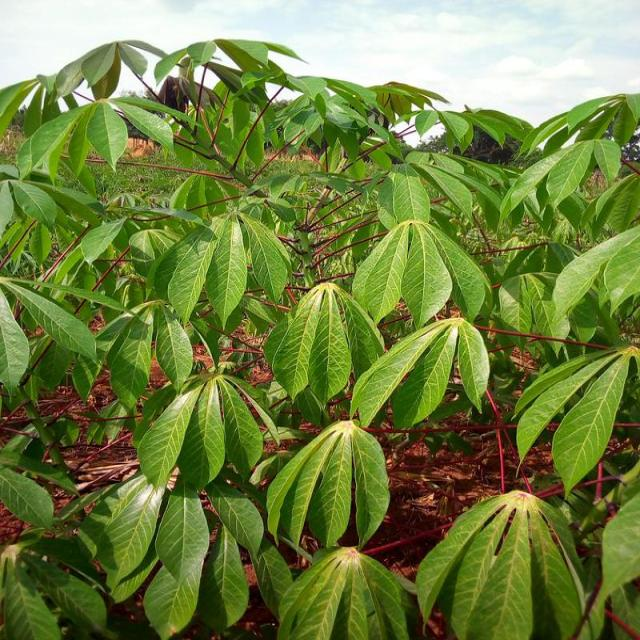cassava leaf: (1, 36, 638, 638), (415, 488, 586, 638), (265, 418, 390, 555), (264, 281, 385, 418)
